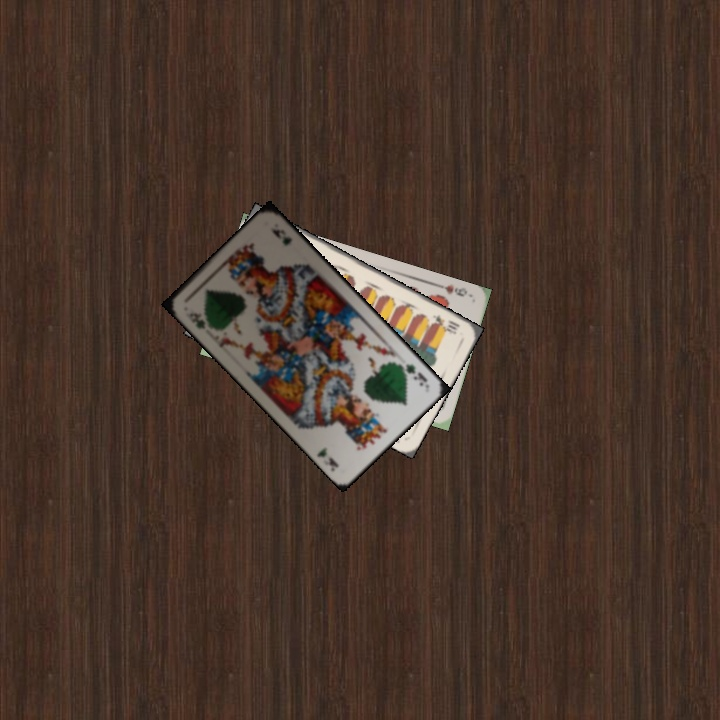E10: (428, 310, 463, 337)
GK: (394, 360, 430, 389), (182, 308, 208, 332)
H9: (433, 280, 473, 299)
